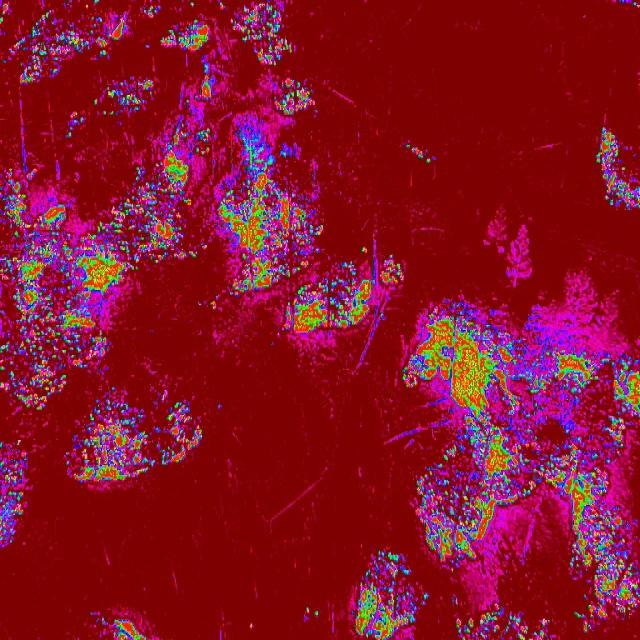fire: (567, 340, 640, 632), (417, 407, 538, 572), (218, 127, 324, 297), (402, 301, 568, 408), (0, 166, 69, 412), (62, 383, 152, 485), (67, 220, 117, 371), (116, 188, 195, 262), (356, 547, 417, 640), (20, 9, 81, 90), (232, 0, 294, 66), (449, 602, 548, 640), (597, 128, 640, 208), (154, 397, 202, 467), (282, 297, 373, 333), (1, 437, 30, 549), (133, 146, 193, 188), (82, 12, 131, 61), (100, 79, 156, 116), (323, 254, 371, 297), (270, 76, 321, 116), (160, 18, 213, 52), (539, 442, 567, 493), (378, 250, 404, 290), (195, 53, 216, 102), (405, 140, 437, 165), (110, 619, 146, 640), (193, 126, 214, 154), (65, 110, 84, 139), (172, 115, 190, 145), (4, 42, 20, 66), (140, 6, 164, 18), (302, 605, 322, 619), (616, 0, 640, 10), (0, 0, 8, 30), (421, 589, 429, 609), (198, 239, 210, 252), (96, 616, 110, 626), (218, 0, 227, 14), (209, 299, 218, 311), (450, 594, 460, 604), (360, 243, 368, 254), (188, 0, 196, 8), (93, 96, 98, 108), (184, 96, 190, 105), (92, 0, 102, 5)
